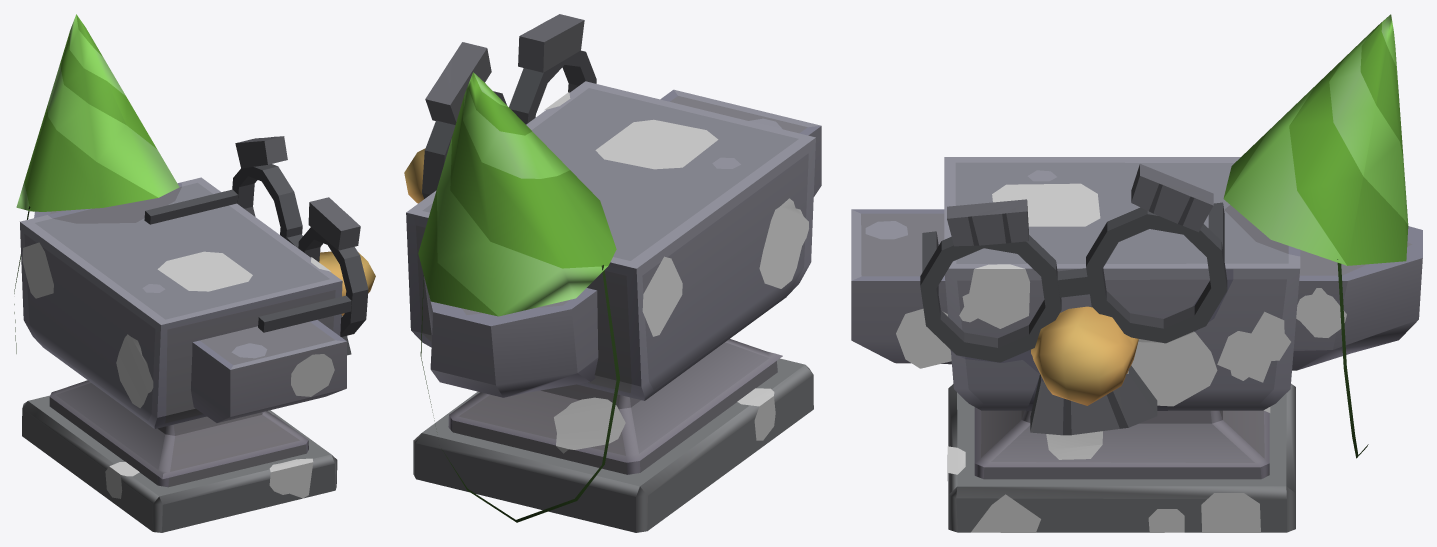
Rendered from tonOfFunOpt.glb.
The picture shows the model from 3 angles, left to right: view 1: azimuth 30°, elevation 25°; view 2: azimuth 150°, elevation 25°; view 3: azimuth 270°, elevation 25°; orthographic projection. The views are drawn at different scales.
Parts seen in each view (by area): view 1: tonOfFunOpt; view 2: tonOfFunOpt; view 3: tonOfFunOpt.
Part boxes in pixels (left/top/right/bottom): tonOfFunOpt: left=14, top=14, right=375, bottom=532; tonOfFunOpt: left=404, top=14, right=821, bottom=532; tonOfFunOpt: left=851, top=14, right=1422, bottom=532.
Size of the model in its own units: 1.35 by 1.79 by 2.
